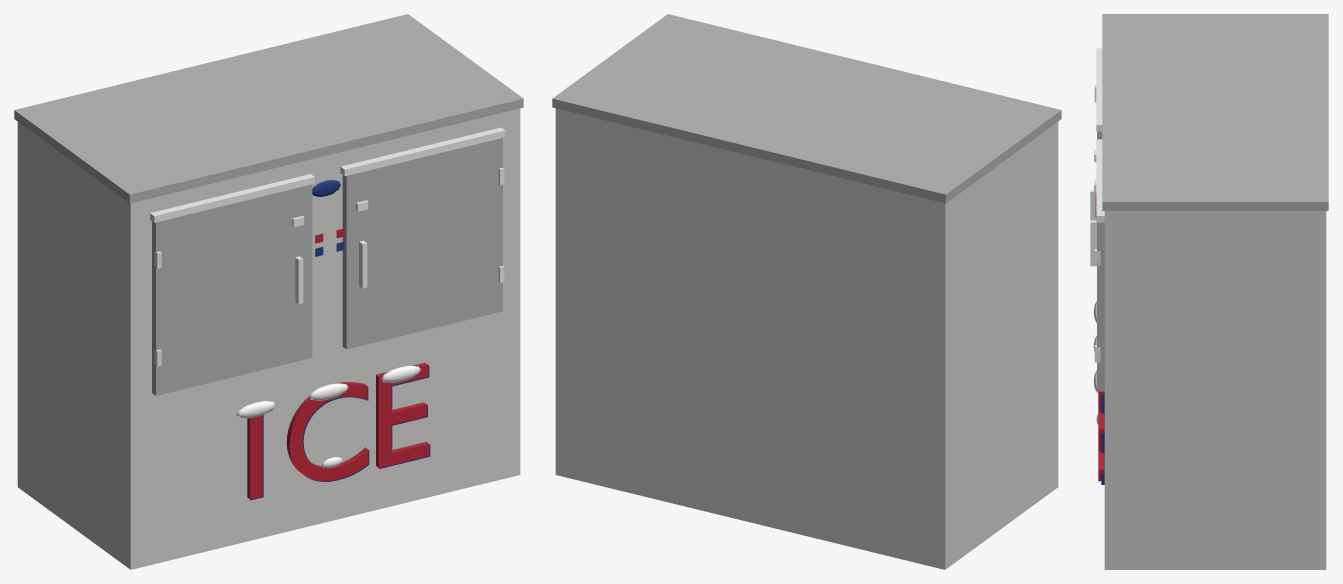
The model's file is Ice_Merchandiser_2Door_W72in.glb.
3 views of the same model, side by side, from view 1: azimuth 30°, elevation 25°; view 2: azimuth 150°, elevation 25°; view 3: azimuth 270°, elevation 25° (orthographic). The views are drawn at different scales.
Visible parts, largest first — view 1: Ice_Merchandiser_2Door_W72in_Export; view 2: Ice_Merchandiser_2Door_W72in_Export; view 3: Ice_Merchandiser_2Door_W72in_Export.
Part boxes in pixels (x1,y1,x2,y2): Ice_Merchandiser_2Door_W72in_Export: (14,14,523,569); Ice_Merchandiser_2Door_W72in_Export: (552,14,1061,569); Ice_Merchandiser_2Door_W72in_Export: (1090,14,1328,569).
Size of the model in its own units: 1.85 by 1.69 by 0.99.
